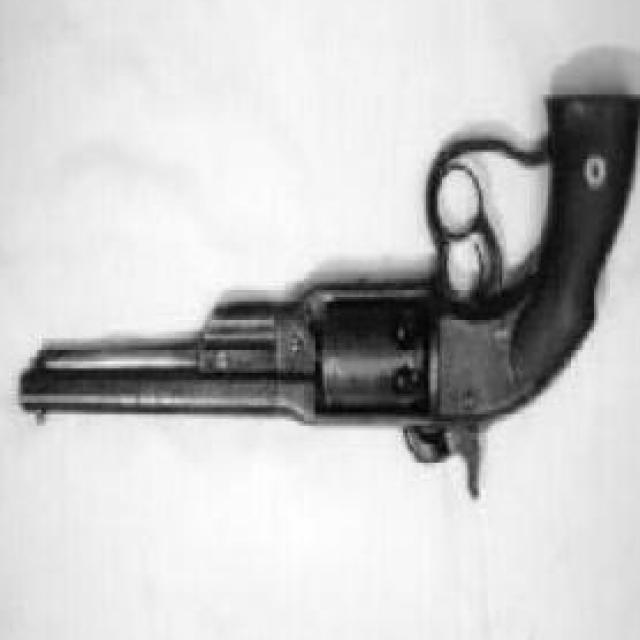pistol: (14, 90, 640, 525)
